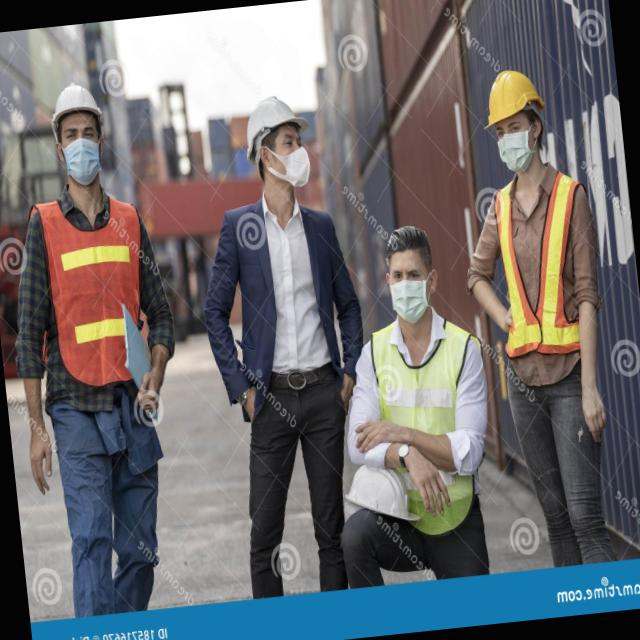helmet: (475, 59, 551, 142), (236, 86, 312, 160), (339, 448, 414, 520), (42, 74, 112, 132)
no-goggles: (484, 104, 543, 144), (54, 107, 104, 150), (258, 122, 312, 156), (382, 255, 435, 289)
no-helmet: (371, 210, 444, 272)
no-vest: (218, 197, 346, 366)
vest: (362, 308, 488, 531), (32, 182, 156, 396), (482, 161, 606, 369)
